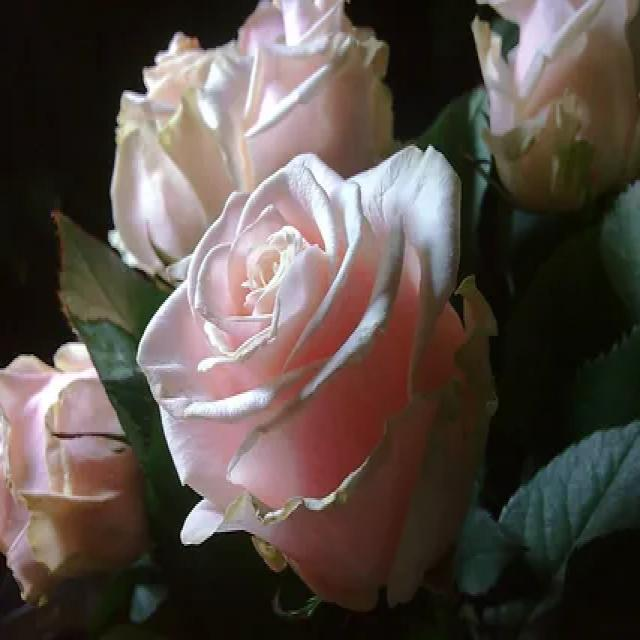rose: (122, 138, 500, 640)
